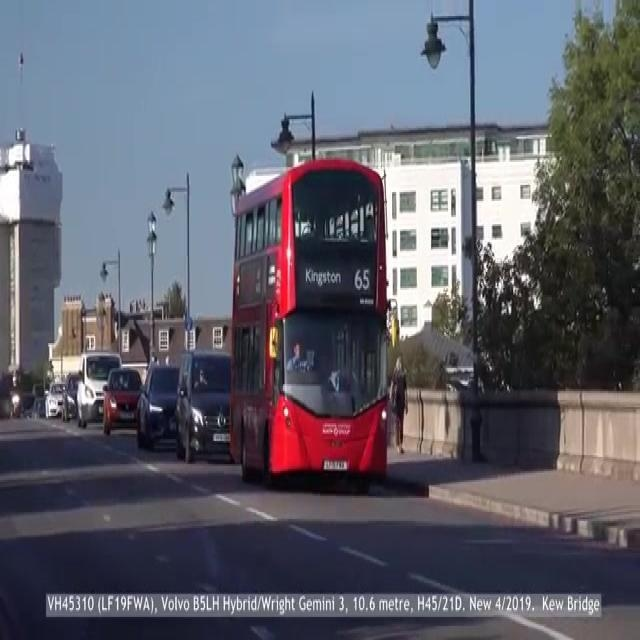Bus: (232, 158, 391, 480)
